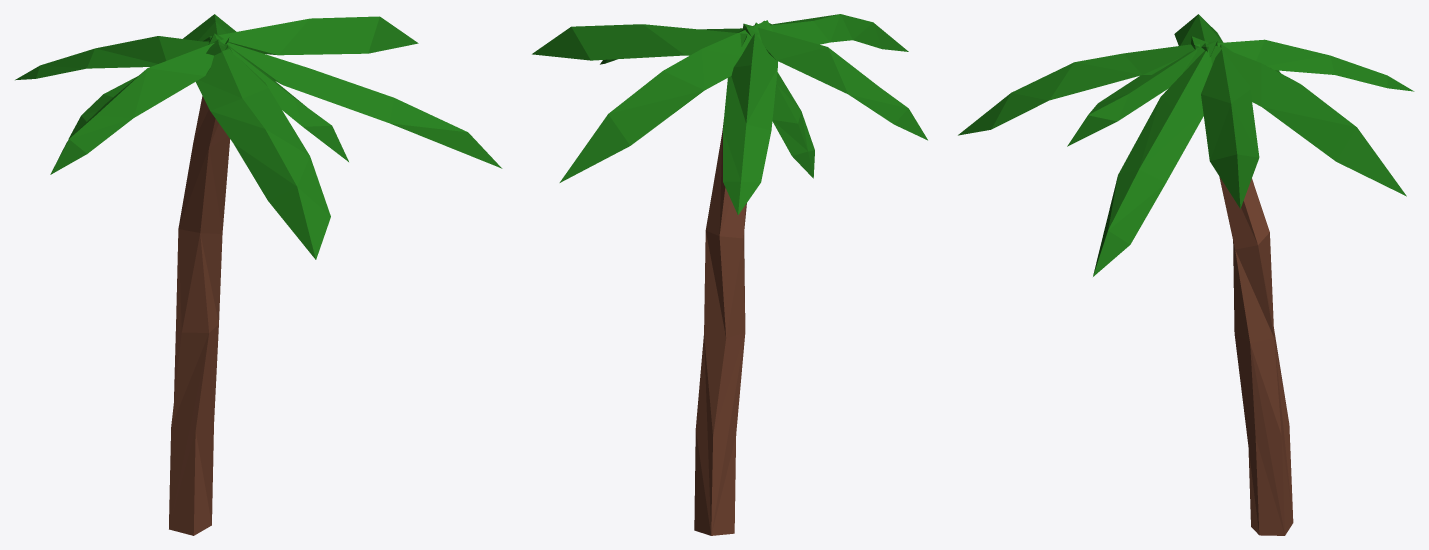
Rendered from Tree_13_summer_vc.fbx.
3 views of the same model, side by side, from view 1: azimuth 30°, elevation 25°; view 2: azimuth 150°, elevation 25°; view 3: azimuth 270°, elevation 25° (orthographic). The views are drawn at different scales.
Parts seen in each view (by area): view 1: Tree_13_summer_vc; view 2: Tree_13_summer_vc; view 3: Tree_13_summer_vc.
Boxes of the visible parts, bbox=[...] form: Tree_13_summer_vc: bbox=[15, 14, 502, 535]; Tree_13_summer_vc: bbox=[532, 14, 927, 535]; Tree_13_summer_vc: bbox=[958, 14, 1414, 535].
Bounding box in the file's own units: 4.93 × 6.05 × 5.14.
